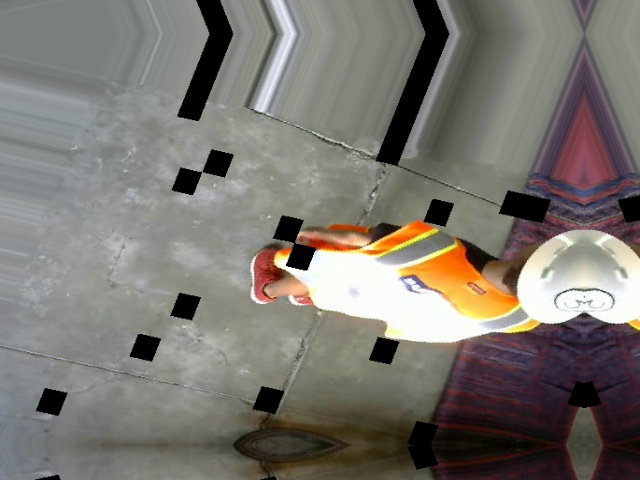three: (551, 283, 605, 318)
